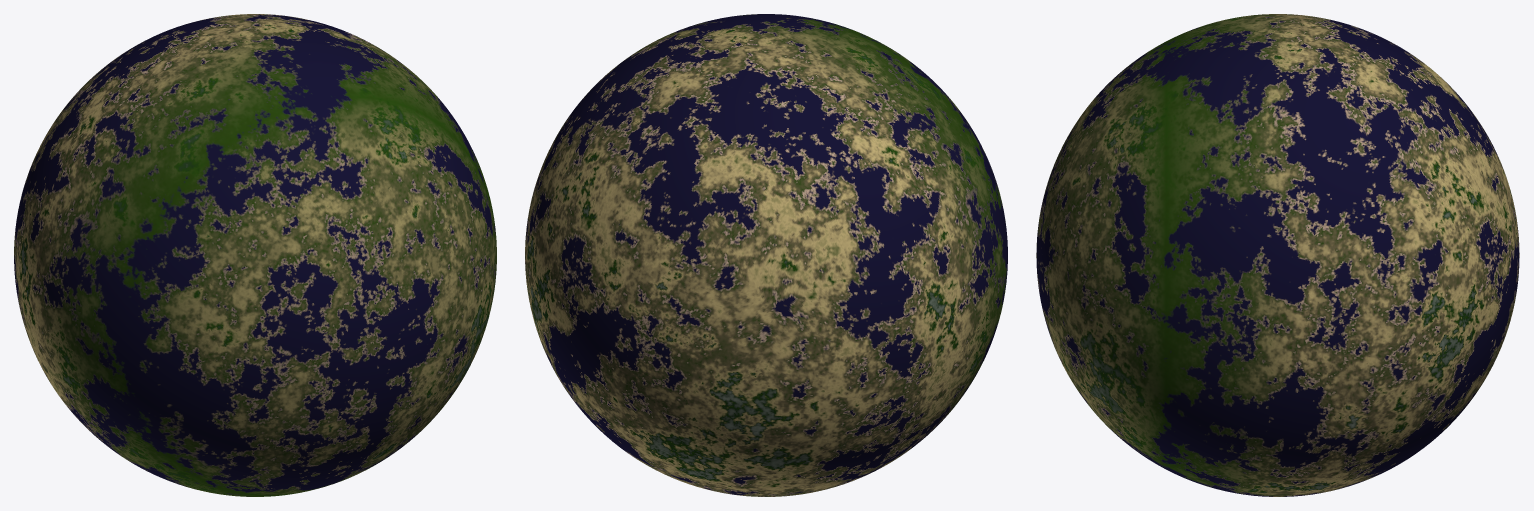
The model's file is Janus2.glb.
3 renders of one model, left to right at view 1: azimuth 30°, elevation 25°; view 2: azimuth 150°, elevation 25°; view 3: azimuth 270°, elevation 25°, orthographic.
Visible parts, largest first — view 1: Planet; view 2: Planet; view 3: Planet.
Part boxes in pixels (bbox=[...]): Planet: bbox=[14, 14, 496, 496]; Planet: bbox=[525, 14, 1007, 496]; Planet: bbox=[1036, 14, 1519, 496].
Size of the model in its own units: 2 by 2 by 2.
1 material, 1 textured.
